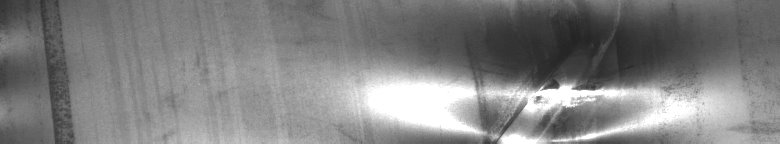ke: (430, 72, 643, 136)
